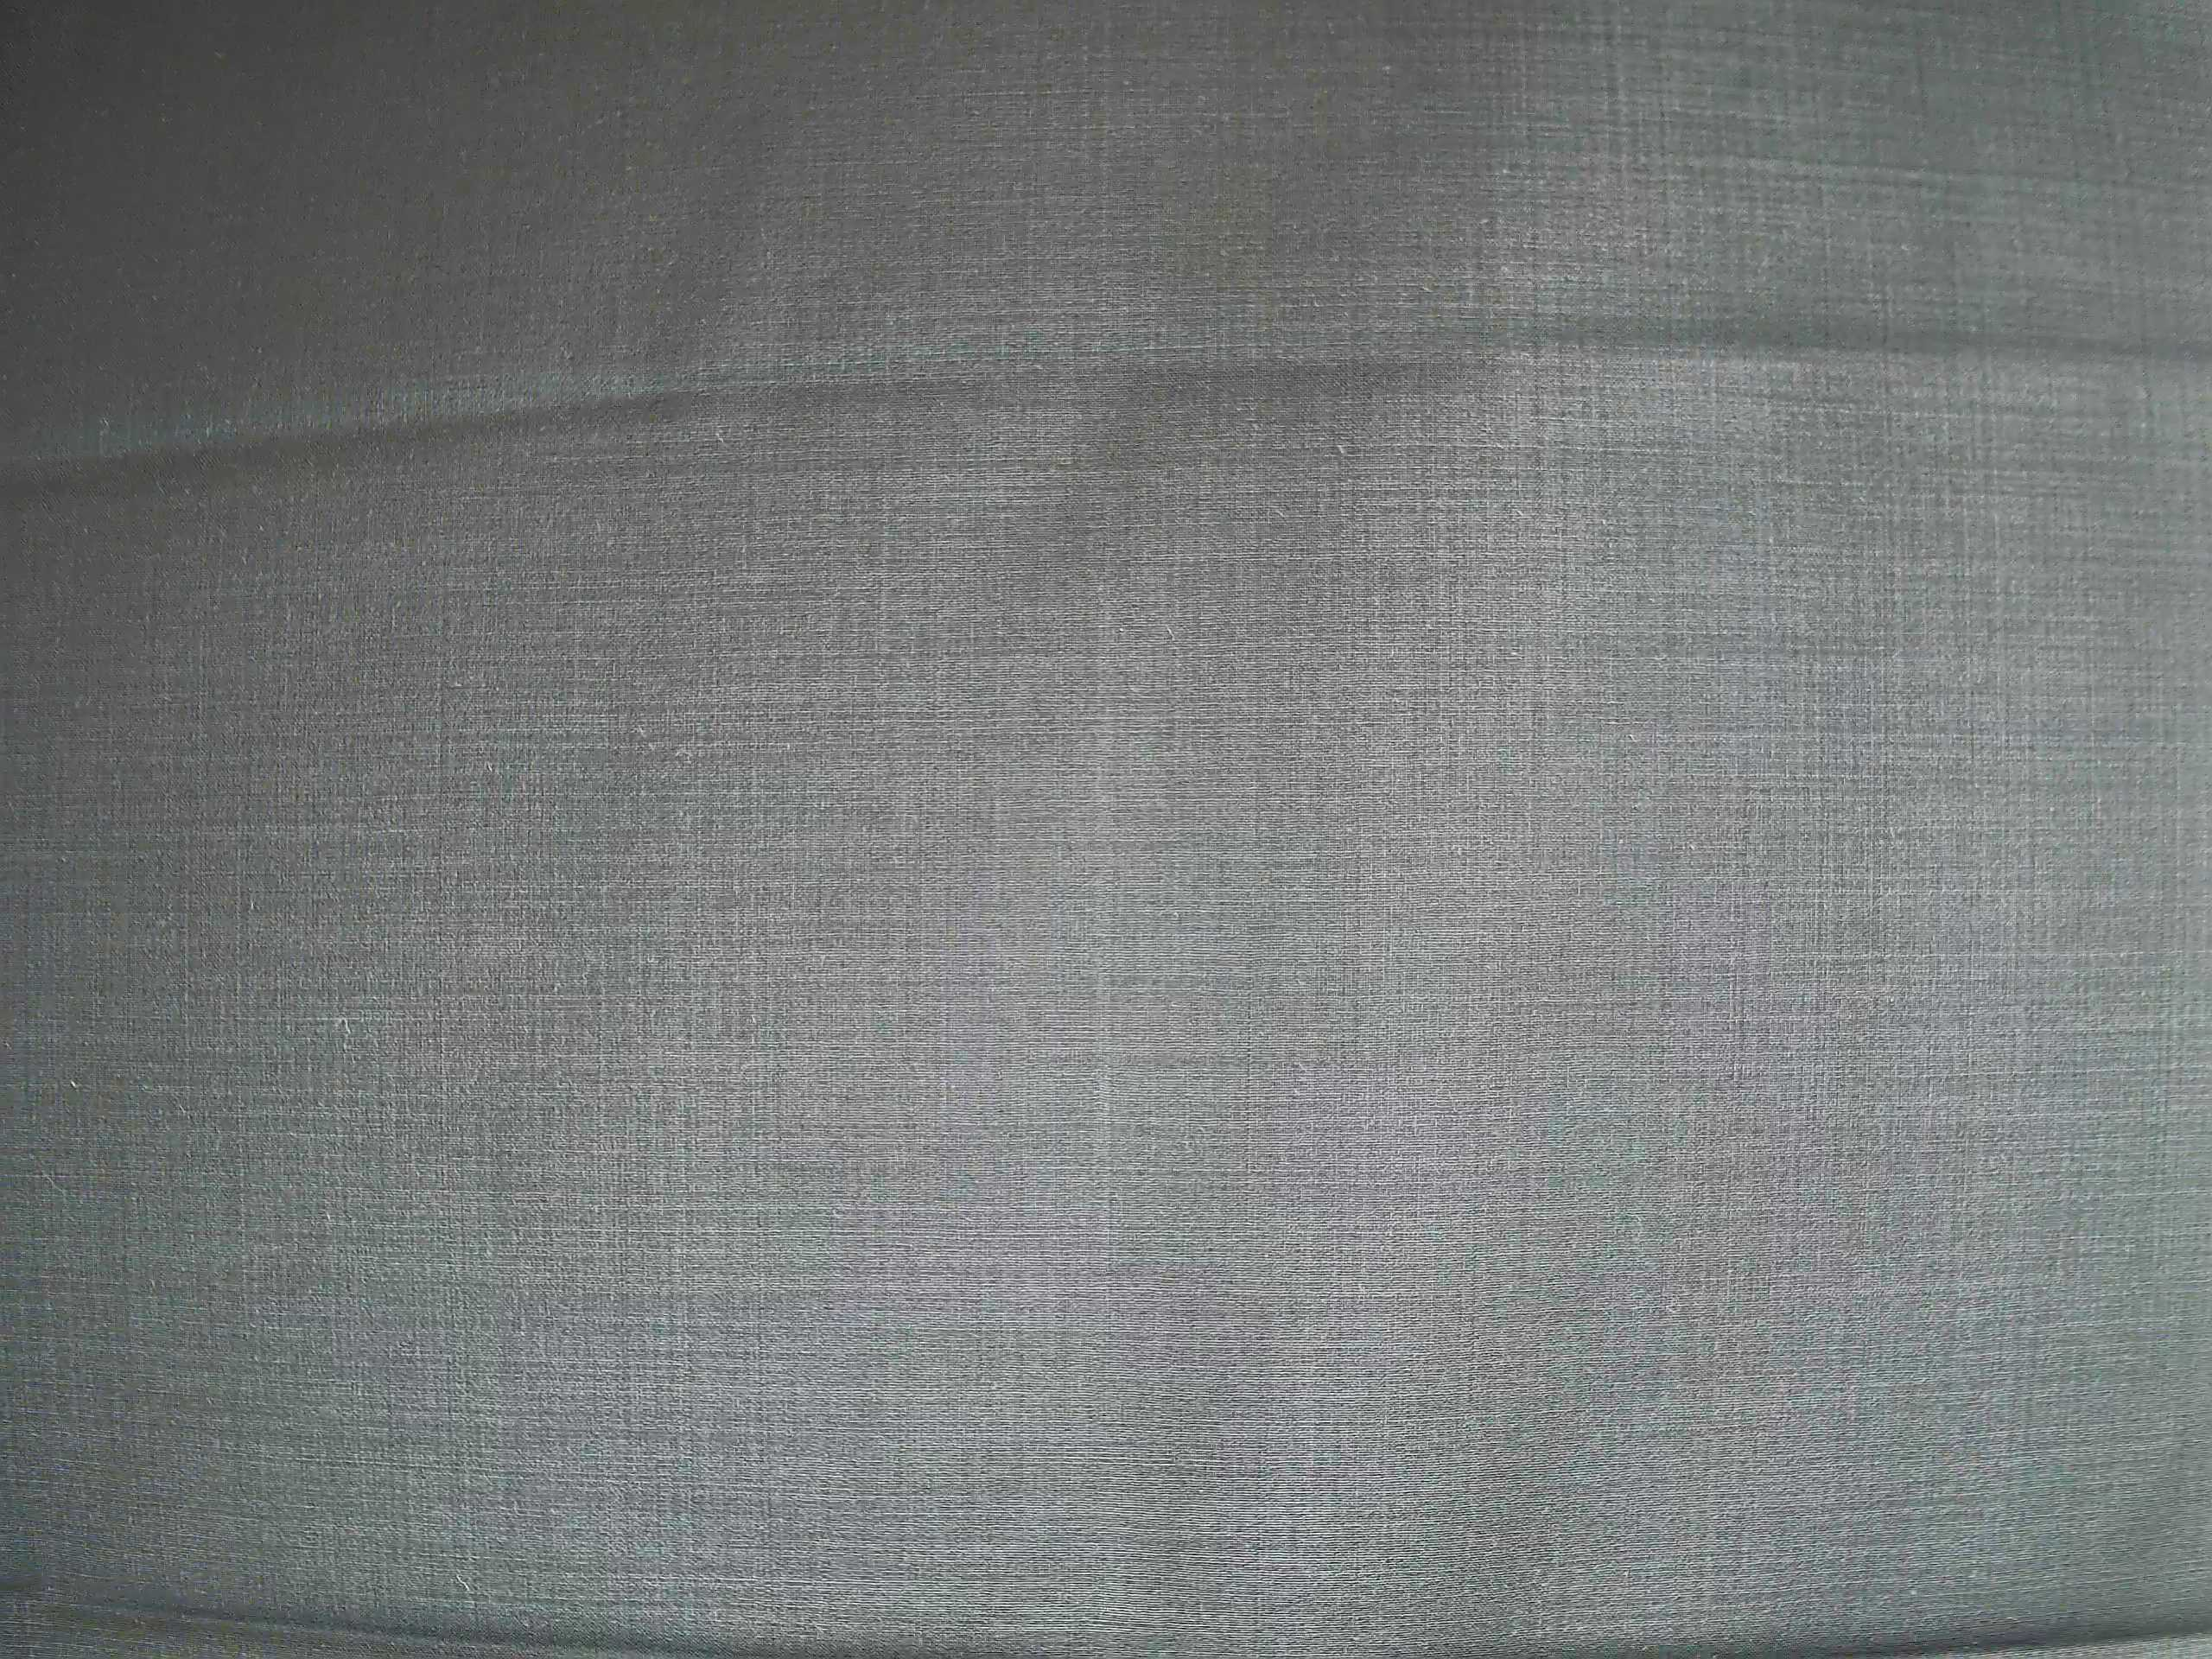others: (124, 993, 510, 1040)
